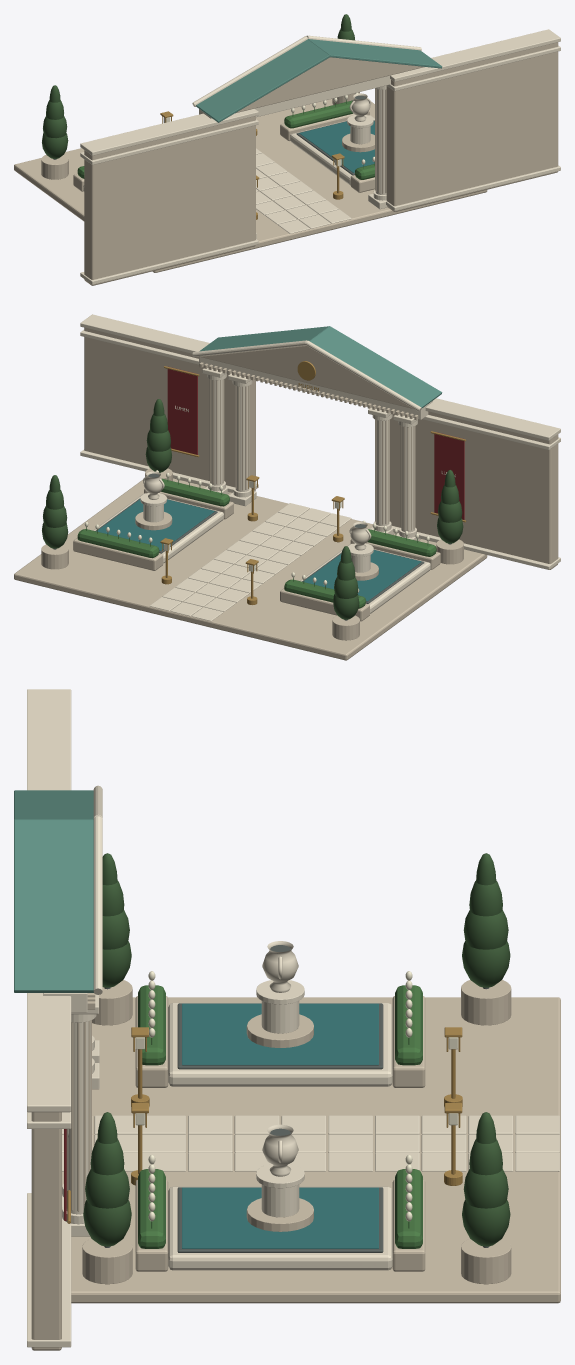
Rendered from MuseumCourtyard.glb.
The picture shows the model from 3 angles, top to bottom: view 1: azimuth 30°, elevation 25°; view 2: azimuth 150°, elevation 25°; view 3: azimuth 270°, elevation 25°; orthographic projection. The views are drawn at different scales.
Visible parts, largest first — view 1: Facade masonry wing.001, Facade masonry wing, Courtyard foundation, Copper roof plane, Classical pediment, Continuous cornice.002, Continuous cornice.005, Copper roof plane.001, Calm water.001, Portico entablature, Continuous cornice, Continuous cornice.001 (+13 smaller); view 2: Courtyard foundation, Facade masonry wing, Facade masonry wing.001, Classical pediment, Copper roof plane, Calm water.001, Oxblood welcome banner.001, Calm water, Continuous cornice.002, Continuous cornice.005, Oxblood welcome banner, Portico entablature (+32 smaller); view 3: Courtyard foundation, Copper roof plane.001, Calm water, Calm water.001, Facade masonry wing.001, Raised pool coping.001, Raised pool coping, Continuous cornice.005, Continuous cornice.002, Fluted column shaft.003, Copper roof plane, Continuous cornice.003 (+51 smaller).
Boxes of the visible parts, x1,y1,x2,y2 form: Facade masonry wing.001: [386, 42, 558, 211]; Facade masonry wing: [84, 116, 255, 285]; Courtyard foundation: [14, 99, 487, 272]; Copper roof plane: [196, 39, 330, 122]; Classical pediment: [235, 57, 424, 113]; Continuous cornice.002: [80, 108, 258, 155]; Continuous cornice.005: [390, 29, 560, 81]; Copper roof plane.001: [308, 39, 442, 68]; Calm water.001: [299, 121, 374, 172]; Portico entablature: [199, 75, 390, 118]; Continuous cornice: [80, 239, 258, 284]; Continuous cornice.001: [80, 119, 258, 164]; Courtyard foundation: [14, 478, 487, 660]; Facade masonry wing: [390, 411, 558, 569]; Facade masonry wing.001: [84, 327, 255, 491]; Classical pediment: [199, 345, 413, 408]; Copper roof plane: [309, 326, 442, 408]; Calm water.001: [96, 499, 214, 550]; Oxblood welcome banner.001: [167, 366, 197, 454]; Calm water: [303, 550, 421, 601]; Continuous cornice.002: [425, 398, 560, 440]; Continuous cornice.005: [80, 314, 209, 353]; Oxblood welcome banner: [434, 432, 464, 519]; Portico entablature: [199, 357, 432, 419]; Courtyard foundation: [62, 997, 560, 1303]; Copper roof plane.001: [14, 819, 93, 992]; Calm water: [182, 1003, 378, 1065]; Calm water.001: [182, 1187, 378, 1248]; Facade masonry wing.001: [31, 1112, 61, 1350]; Raised pool coping.001: [168, 1186, 392, 1270]; Raised pool coping: [168, 1003, 392, 1086]; Continuous cornice.005: [27, 993, 71, 1112]; Continuous cornice.002: [27, 689, 71, 790]; Fluted column shaft.003: [66, 1020, 90, 1214]; Copper roof plane: [14, 790, 93, 820]; Continuous cornice.003: [27, 1193, 71, 1347].
Bounding box in the file's own units: 21.1 × 8.04 × 11.7.
